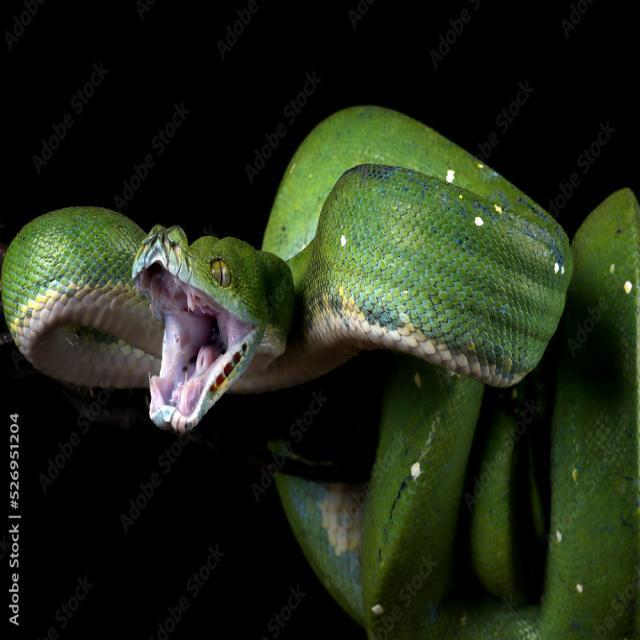Snake: (33, 87, 640, 640)
